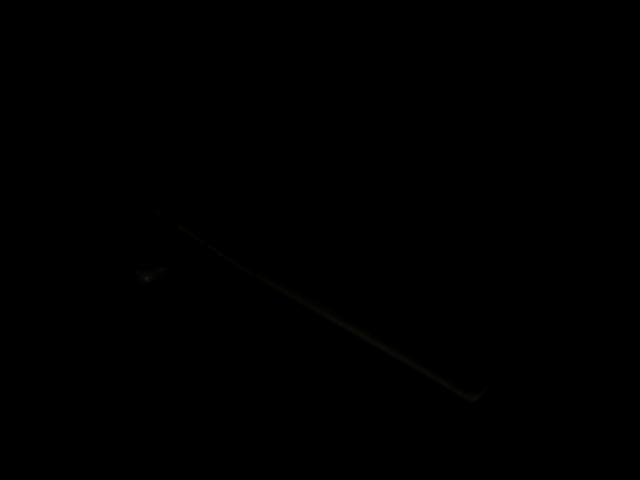iha: (0, 64, 569, 417)
